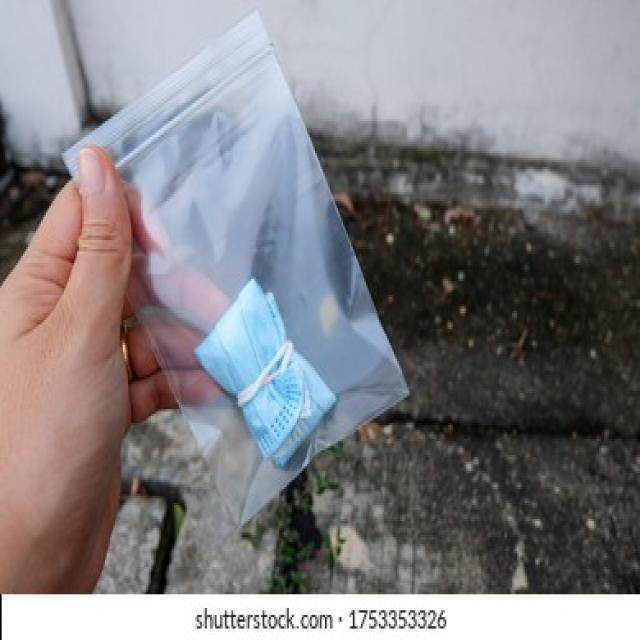face mask: (190, 272, 338, 473)
